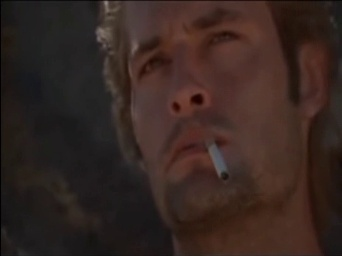smoke: (203, 136, 229, 181)
